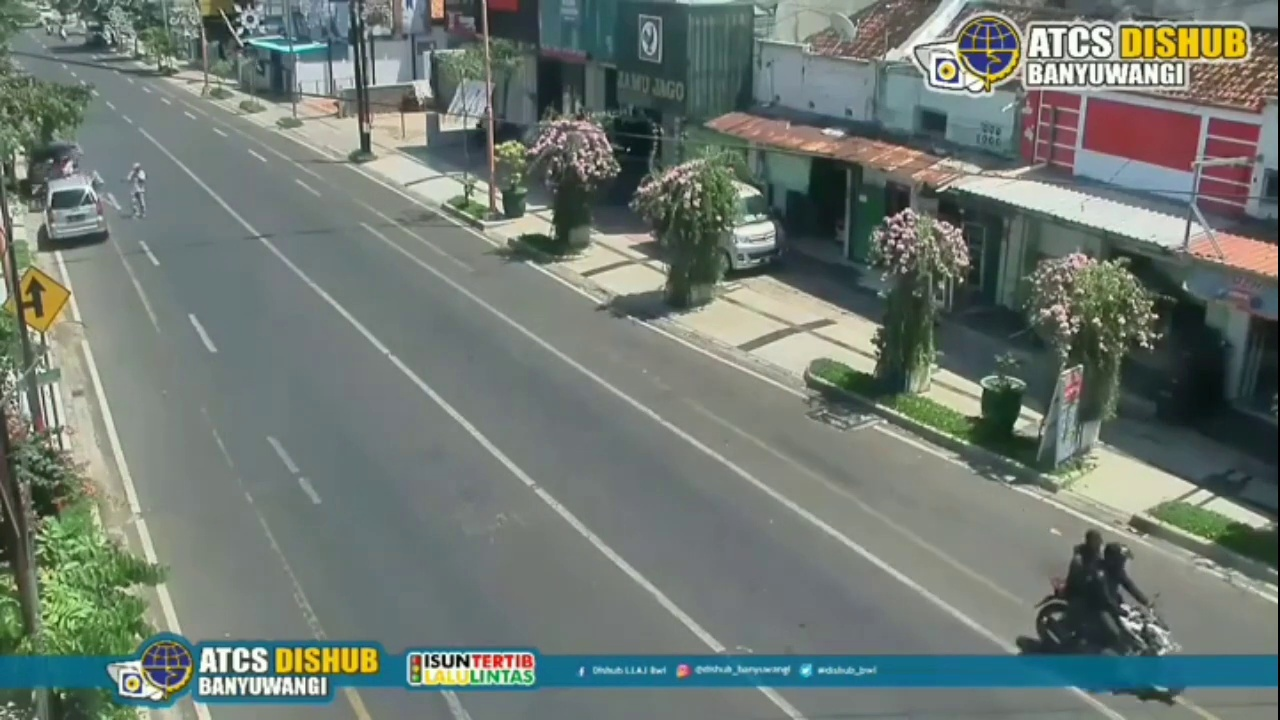car: (727, 171, 788, 279), (42, 176, 107, 245)
motorbike: (1031, 532, 1191, 695)
